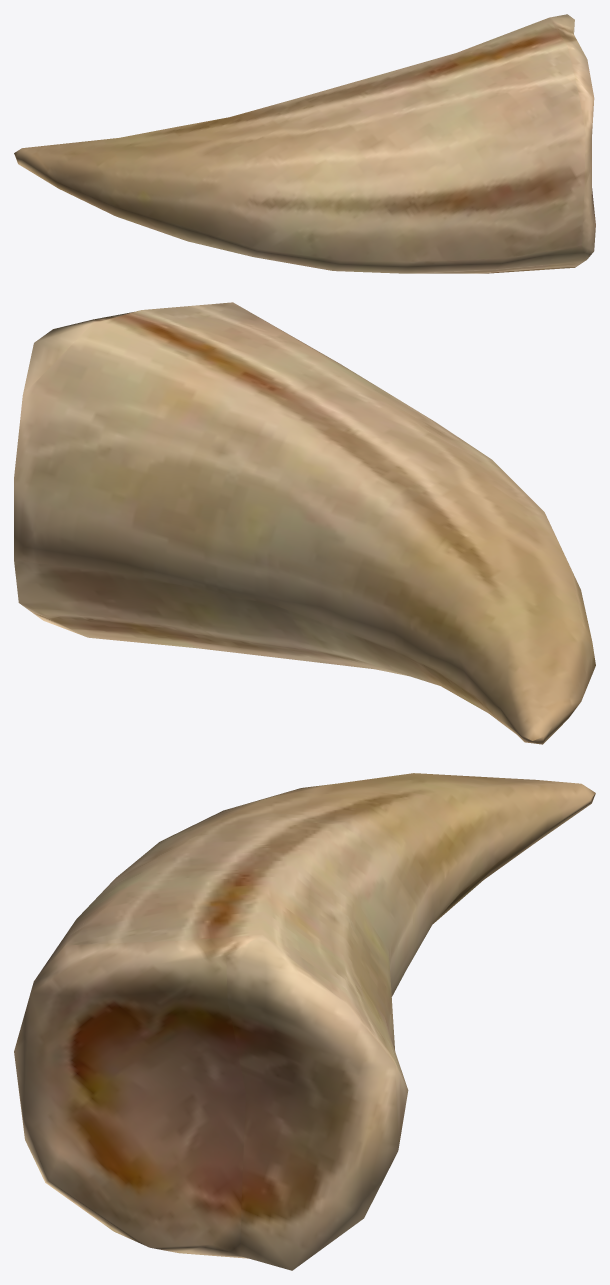
3 views of the same model, one above another, from view 1: azimuth 30°, elevation 25°; view 2: azimuth 150°, elevation 25°; view 3: azimuth 270°, elevation 25° (orthographic). The views are drawn at different scales.
Parts seen in each view (by area): view 1: SM_Animal_Fang_01_LOD0; view 2: SM_Animal_Fang_01_LOD0; view 3: SM_Animal_Fang_01_LOD0.
Boxes of the visible parts, left/top/right/bottom form: SM_Animal_Fang_01_LOD0: left=14, top=14, right=595, bottom=273; SM_Animal_Fang_01_LOD0: left=14, top=302, right=595, bottom=744; SM_Animal_Fang_01_LOD0: left=14, top=773, right=595, bottom=1270.
Size of the model in its own units: 0.2359 by 0.1076 by 0.1725.
1 material, 1 textured.
